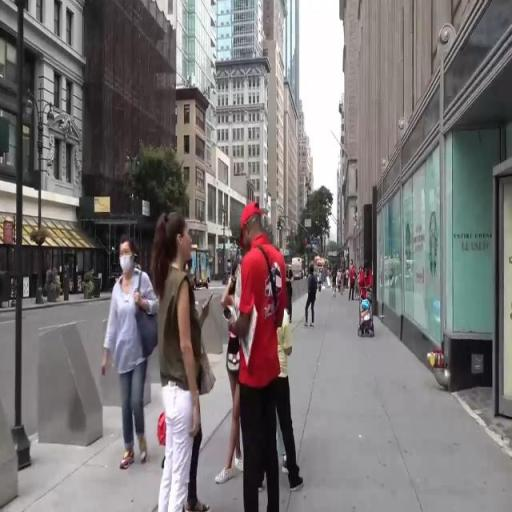person: (238, 206, 278, 512), (154, 217, 195, 512), (104, 235, 156, 454), (279, 291, 305, 508), (225, 256, 245, 488), (361, 261, 380, 332), (306, 264, 319, 332), (350, 258, 358, 303), (331, 268, 338, 302), (340, 271, 343, 297)
